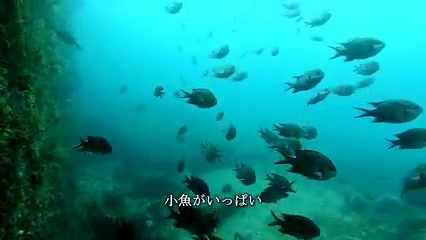mezina: (352, 88, 426, 128), (272, 144, 344, 184), (281, 66, 344, 106), (269, 203, 324, 240), (332, 36, 391, 64), (224, 156, 263, 188), (69, 132, 119, 156), (269, 116, 313, 143), (178, 84, 223, 108), (381, 127, 426, 150), (302, 11, 341, 28)
smallfish: (156, 1, 193, 24), (210, 43, 233, 63), (212, 63, 237, 78)
